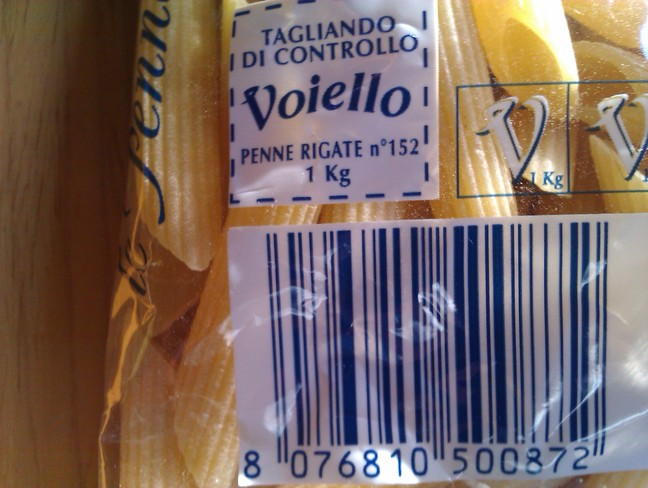barcode: (228, 213, 612, 471)
